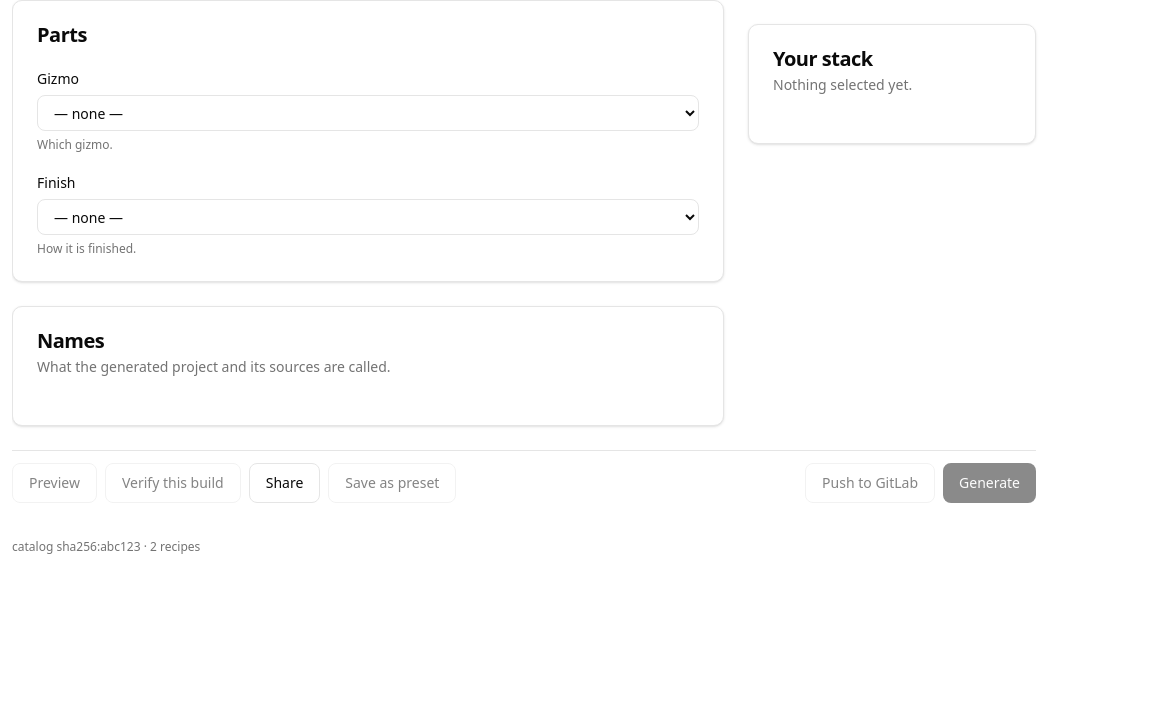
Test case: verification badges › warns at the pairing, and only once both halves of it are chosen
Select "Brass" in the dropdown labelled "Gizmo" at (368, 113), box top-left (37, 95), bottom-right (699, 131)
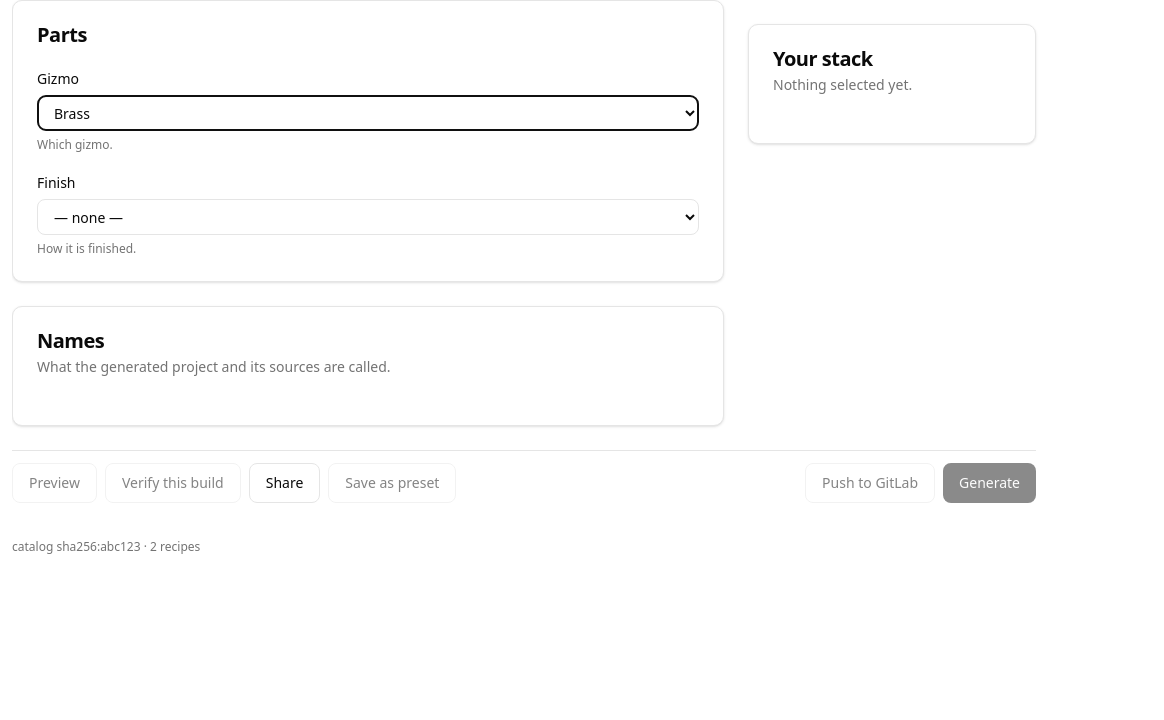
Select "Matte" in the dropdown labelled "Finish" at (368, 217), box top-left (37, 199), bottom-right (699, 235)
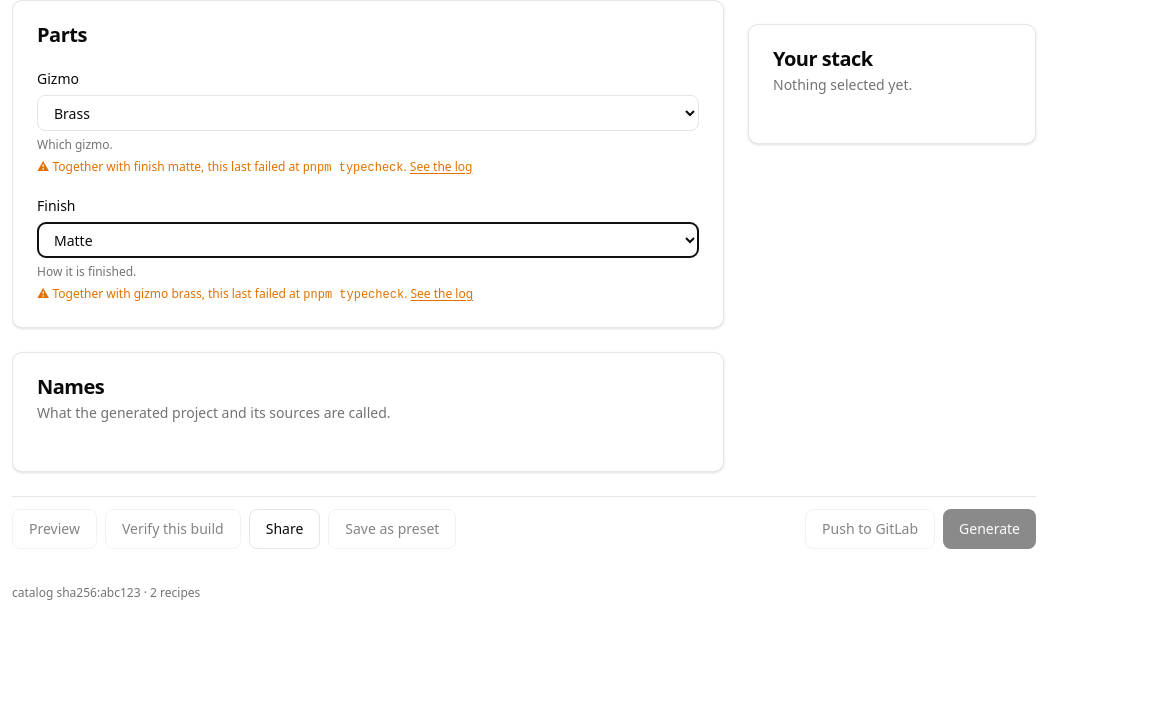
Result: the message "⚠ Together with finish matte, this last failed at pnpm typecheck. See the log" is shown at top-left (37, 158), bottom-right (472, 175)
Result: the message with test id "pairing-warning" shows "pnpm typecheck" at top-left (303, 161), bottom-right (404, 175)
